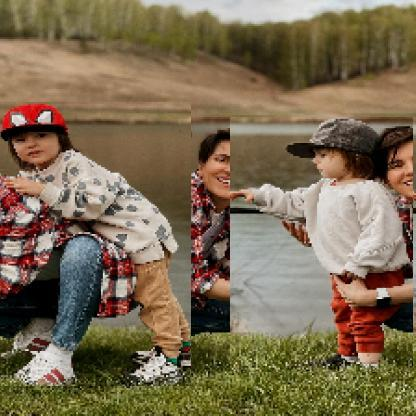child: (1, 103, 193, 388), (231, 118, 415, 374)
